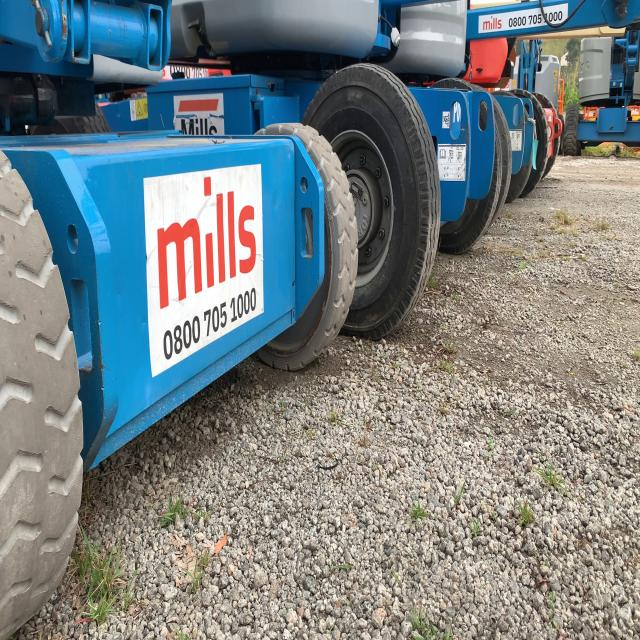Adesivos: (141, 160, 266, 383)
